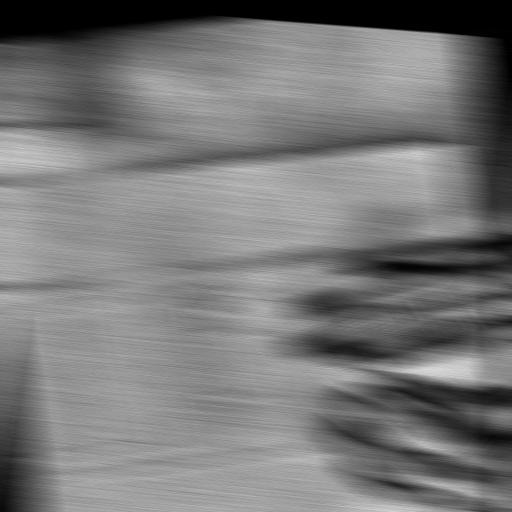bottom_right: (430, 133, 465, 146)
door: (0, 229, 492, 487)
